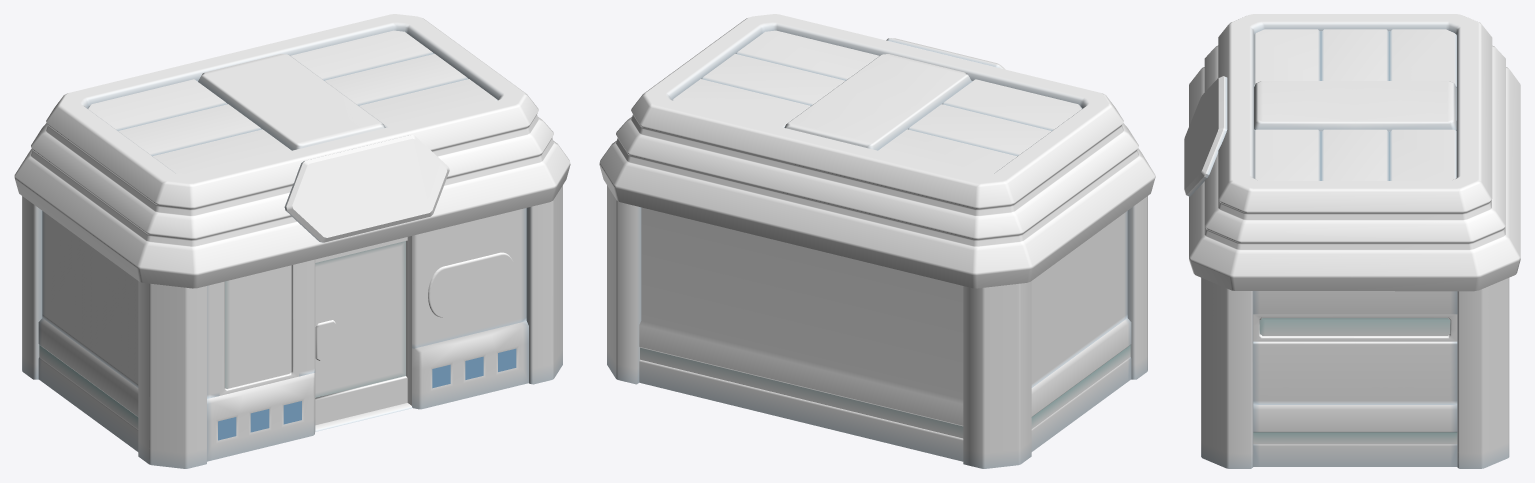
The model's file is poke-mart.glb.
3 renders of one model, left to right at view 1: azimuth 30°, elevation 25°; view 2: azimuth 150°, elevation 25°; view 3: azimuth 270°, elevation 25°, orthographic.
Visible parts, largest first — view 1: poke-mart; view 2: poke-mart; view 3: poke-mart.
Boxes of the visible parts, bbox=[...] form: poke-mart: bbox=[14, 14, 570, 468]; poke-mart: bbox=[599, 14, 1155, 468]; poke-mart: bbox=[1184, 14, 1520, 468].
Bounding box in the file's own units: 4.48 × 2.66 × 3.03.
